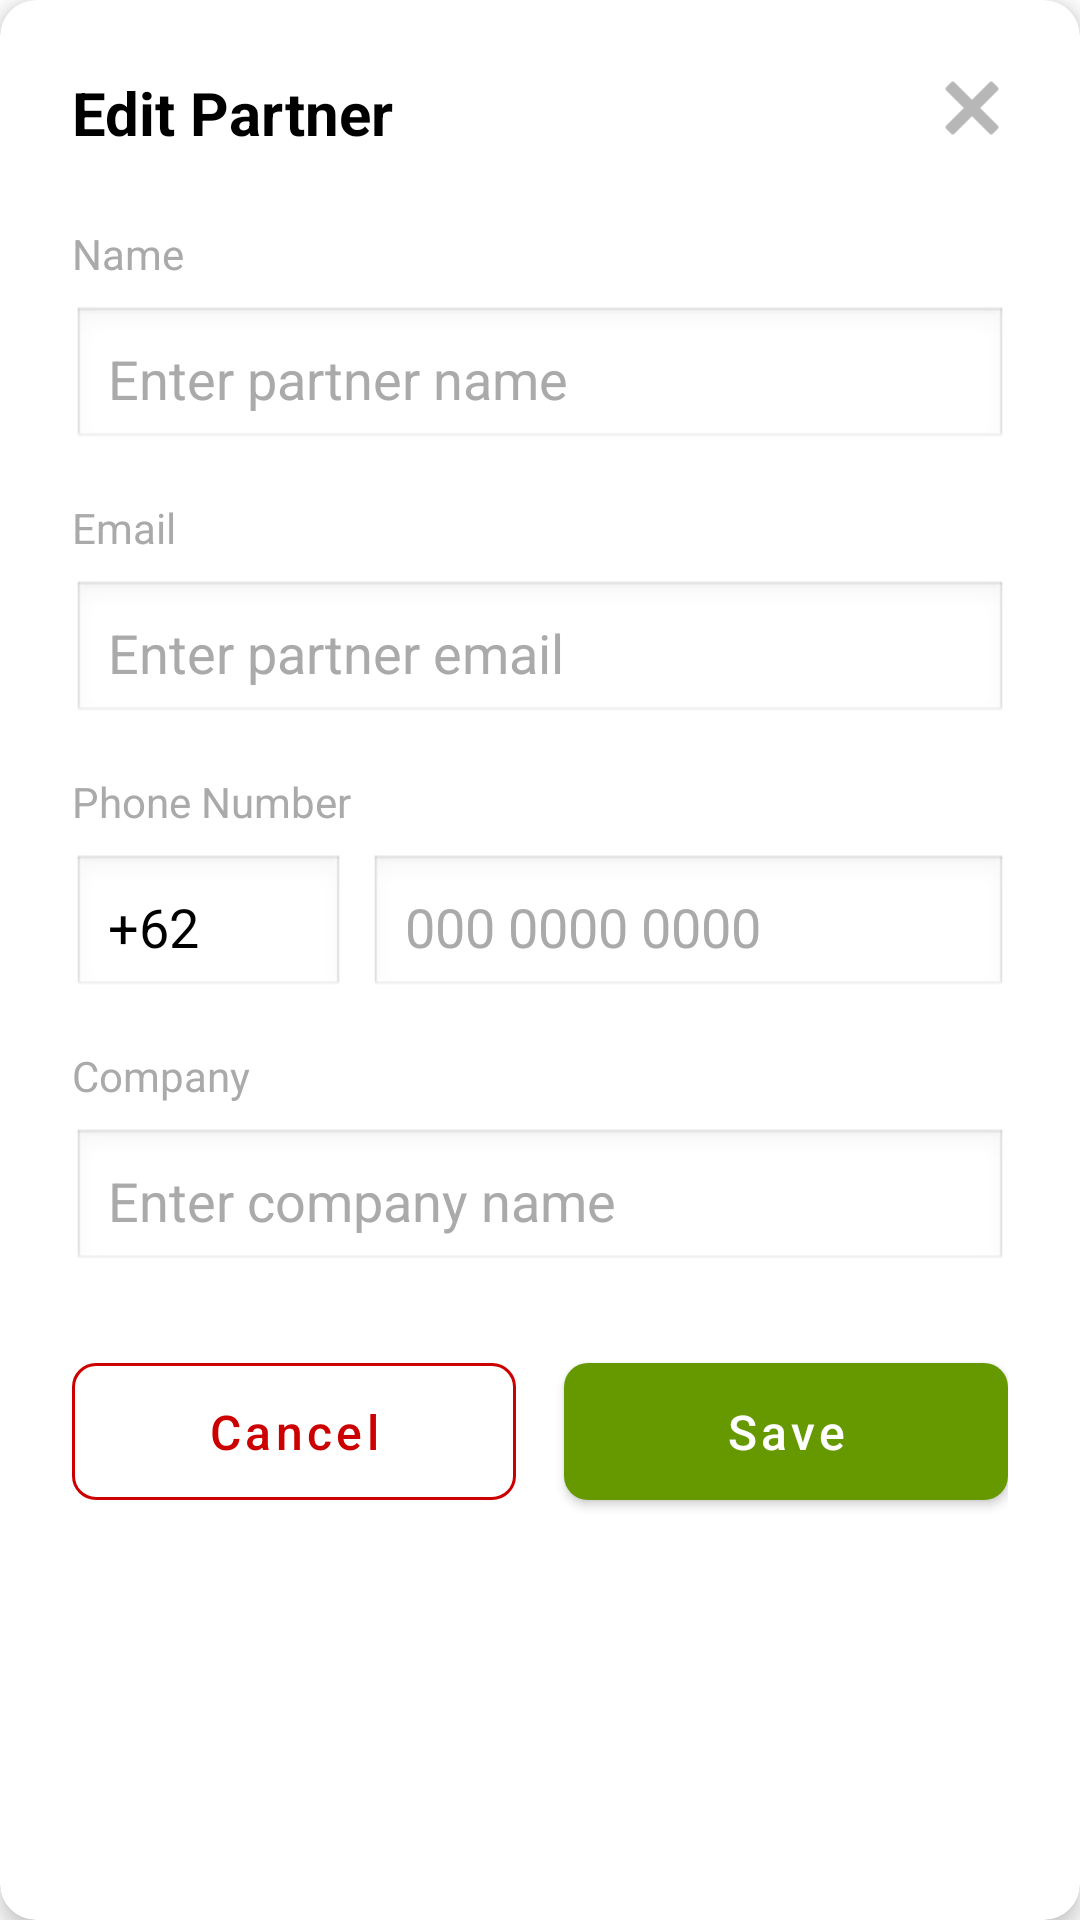

Named icons in this screenshot (1080px×1920px) and their centers, (x=x, y=y):
Close dialog: (x=972, y=108)
